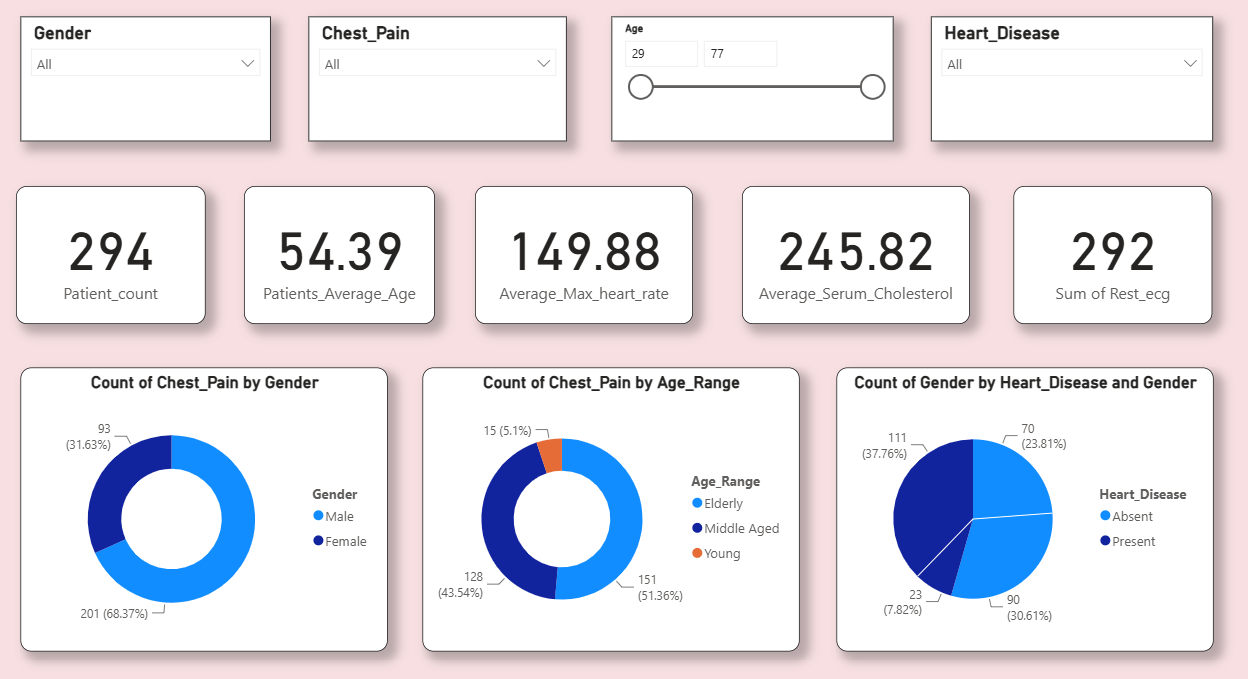

The page's visual inventory and layout, read from the dashboard file:
{"tool":"powerbi","page":{"name":"Analysis iii","canvas":[1280,720],"ordinal":2},"visuals":[{"type":"slicer","fields":{"Values":["Heart Disease Diagnostic.Gender"]},"box":[32.4,32.4,252.6,126.3],"z":0},{"type":"slicer","fields":{"Values":["Heart Disease Diagnostic.Chest_Pain"]},"box":[322.2,32.4,260.7,126.3],"z":1000},{"type":"slicer","fields":{"Values":["Heart Disease Diagnostic.Age"]},"box":[628.3,32.4,285,126.3],"z":2000},{"type":"slicer","fields":{"Values":["Heart Disease Diagnostic.Heart_Disease"]},"box":[950.5,32.4,285,126.3],"z":3000},{"type":"card","fields":{"Values":["Measure.Patient_count"]},"box":[27.5,202.4,191.1,139.3],"z":4000},{"type":"card","fields":{"Values":["Measure.Patient_Average_Age"]},"box":[257.5,202.4,192.7,139.3],"z":5000},{"type":"card","fields":{"Values":["Measure.Average_Max_heart_rate"]},"box":[490.6,202.4,220.2,139.3],"z":6000},{"type":"card","fields":{"Values":["Measure.Average_Serum_Cholesterol"]},"box":[759.4,202.4,229.9,139.3],"z":7000},{"type":"card","fields":{"Values":["Sum(Heart Disease Diagnostic.Rest_ecg)"]},"box":[1034.7,202.4,200.8,139.3],"z":8000},{"type":"donutChart","fields":{"Y":["CountNonNull(Heart Disease Diagnostic.Chest_Pain)"],"Category":["Heart Disease Diagnostic.Age_Range"]},"box":[437.2,385.4,380.5,286.6],"z":9000},{"type":"pieChart","fields":{"Y":["CountNonNull(Heart Disease Diagnostic.Gender)"],"Category":["Heart Disease Diagnostic.Heart_Disease"],"Series":["Heart Disease Diagnostic.Gender"]},"box":[855,385.4,380.5,286.6],"z":10000},{"type":"donutChart","fields":{"Category":["Heart Disease Diagnostic.Gender"],"Y":["CountNonNull(Heart Disease Diagnostic.Chest_Pain)"]},"box":[32.4,385.4,370.8,286.6],"z":11000}]}

Visuals, with their boxes on the page's 1280x720 design canvas (x1, y1, x2, y2). These are canvas units, not pixel positions in the 1248x679 screenshot, which may show the page scaled, cropped or inside an application window:
slicer - Heart Disease Diagnostic.Gender: x1=32, y1=32, x2=285, y2=159
slicer - Heart Disease Diagnostic.Chest_Pain: x1=322, y1=32, x2=583, y2=159
slicer - Heart Disease Diagnostic.Age: x1=628, y1=32, x2=913, y2=159
slicer - Heart Disease Diagnostic.Heart_Disease: x1=950, y1=32, x2=1236, y2=159
card - Measure.Patient_count: x1=28, y1=202, x2=219, y2=342
card - Measure.Patient_Average_Age: x1=258, y1=202, x2=450, y2=342
card - Measure.Average_Max_heart_rate: x1=491, y1=202, x2=711, y2=342
card - Measure.Average_Serum_Cholesterol: x1=759, y1=202, x2=989, y2=342
card - Sum(Heart Disease Diagnostic.Rest_ecg): x1=1035, y1=202, x2=1236, y2=342
donutChart - CountNonNull(Heart Disease Diagnostic.Chest_Pain) x Heart Disease Diagnostic.Age_Range: x1=437, y1=385, x2=818, y2=672
pieChart - CountNonNull(Heart Disease Diagnostic.Gender) x Heart Disease Diagnostic.Heart_Disease: x1=855, y1=385, x2=1236, y2=672
donutChart - Heart Disease Diagnostic.Gender x CountNonNull(Heart Disease Diagnostic.Chest_Pain): x1=32, y1=385, x2=403, y2=672
